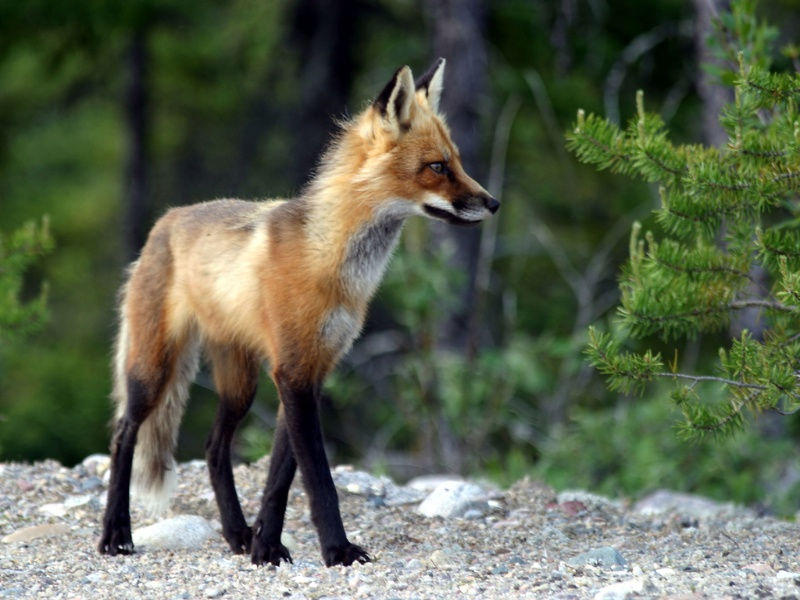fox: (93, 54, 503, 564)
